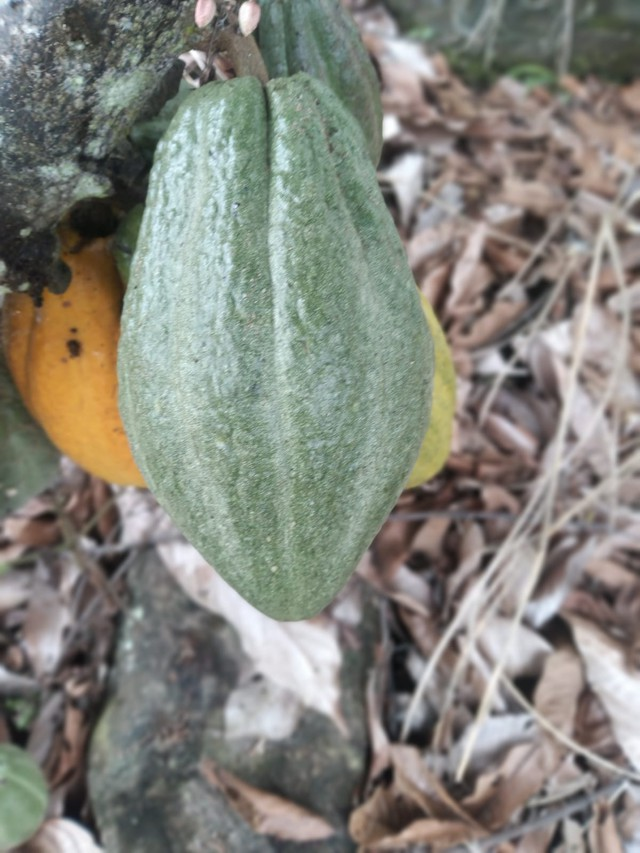Health: (94, 58, 449, 636)
